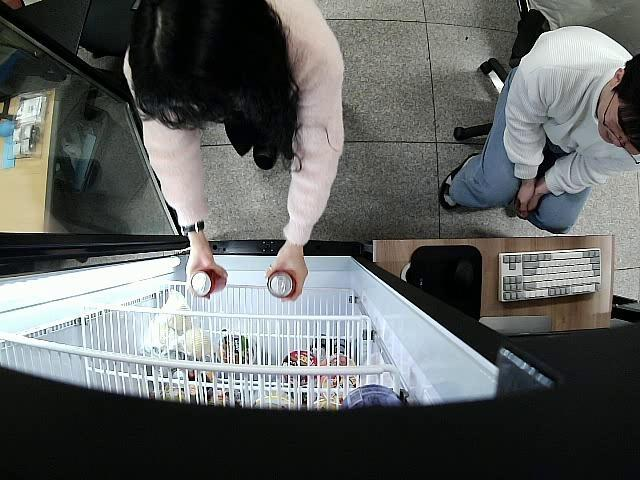11_cocaColaZero: (190, 269, 229, 297), (266, 270, 298, 299)
